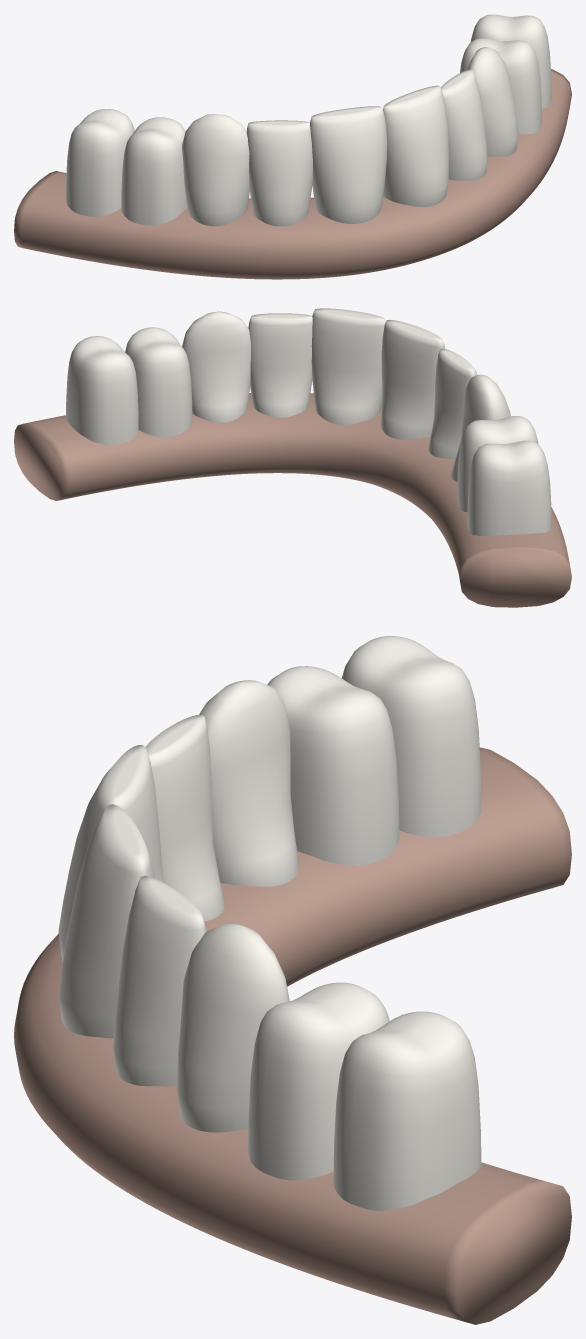
File: fullmouth.glb
3 renders of one model, top to bottom at view 1: azimuth 30°, elevation 25°; view 2: azimuth 150°, elevation 25°; view 3: azimuth 270°, elevation 25°, orthographic. The views are drawn at different scales.
Visible parts, largest first — view 1: arch, crown_05, crown_06, crown_03, crown_04, crown_02, crown_01, crown_07, crown_08, crown_09, crown_10; view 2: arch, crown_06, crown_01, crown_10, crown_08, crown_05, crown_07, crown_09, crown_04, crown_02, crown_03; view 3: arch, crown_10, crown_02, crown_09, crown_01, crown_08, crown_03, crown_07, crown_06, crown_04, crown_05.
Boxes of the visible parts, x1=… form: arch: x1=14, y1=69, x2=571, y2=279; crown_05: x1=310, y1=106, x2=387, y2=223; crown_06: x1=383, y1=85, x2=448, y2=206; crown_03: x1=182, y1=114, x2=249, y2=226; crown_04: x1=246, y1=120, x2=312, y2=226; crown_02: x1=121, y1=117, x2=187, y2=225; crown_01: x1=66, y1=109, x2=134, y2=216; crown_07: x1=440, y1=69, x2=487, y2=180; crown_08: x1=467, y1=47, x2=518, y2=156; crown_09: x1=460, y1=38, x2=541, y2=134; crown_10: x1=470, y1=14, x2=551, y2=108; arch: x1=14, y1=393, x2=571, y2=607; crown_06: x1=311, y1=308, x2=385, y2=424; crown_01: x1=467, y1=440, x2=551, y2=535; crown_10: x1=66, y1=336, x2=138, y2=445; crown_08: x1=182, y1=311, x2=250, y2=422; crown_05: x1=381, y1=319, x2=445, y2=439; crown_07: x1=248, y1=313, x2=312, y2=417; crown_09: x1=125, y1=327, x2=192, y2=436; crown_04: x1=428, y1=348, x2=477, y2=458; crown_02: x1=457, y1=416, x2=538, y2=511; crown_03: x1=451, y1=374, x2=510, y2=481; arch: x1=14, y1=747, x2=571, y2=1324; crown_10: x1=333, y1=1011, x2=481, y2=1210; crown_02: x1=267, y1=666, x2=399, y2=865; crown_09: x1=248, y1=982, x2=389, y2=1180; crown_01: x1=342, y1=636, x2=481, y2=837; crown_08: x1=176, y1=923, x2=289, y2=1132; crown_03: x1=199, y1=680, x2=298, y2=886; crown_07: x1=113, y1=875, x2=206, y2=1086; crown_06: x1=58, y1=804, x2=154, y2=1038; crown_04: x1=145, y1=714, x2=224, y2=921; crown_05: x1=58, y1=745, x2=163, y2=961.
Bounding box in the file's own units: 2.75 × 0.7152 × 1.27.
